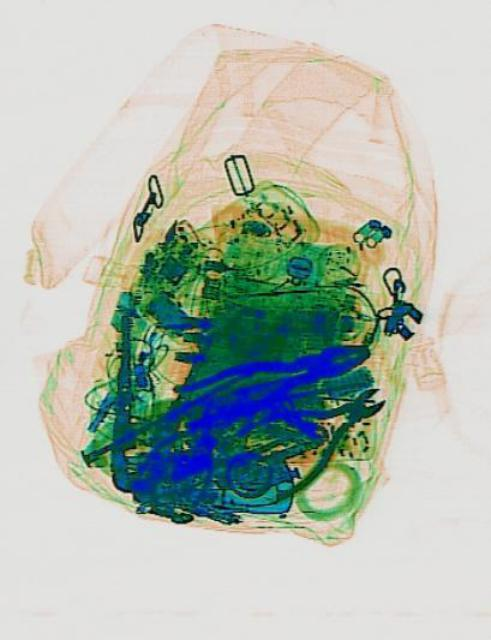Pliers: (233, 354, 398, 508), (169, 319, 374, 436)
